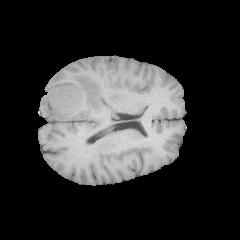glioma: (43, 74, 109, 120)
